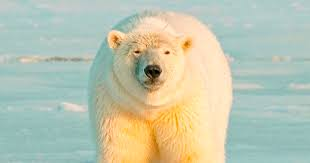PolarBear: (85, 6, 239, 163)
